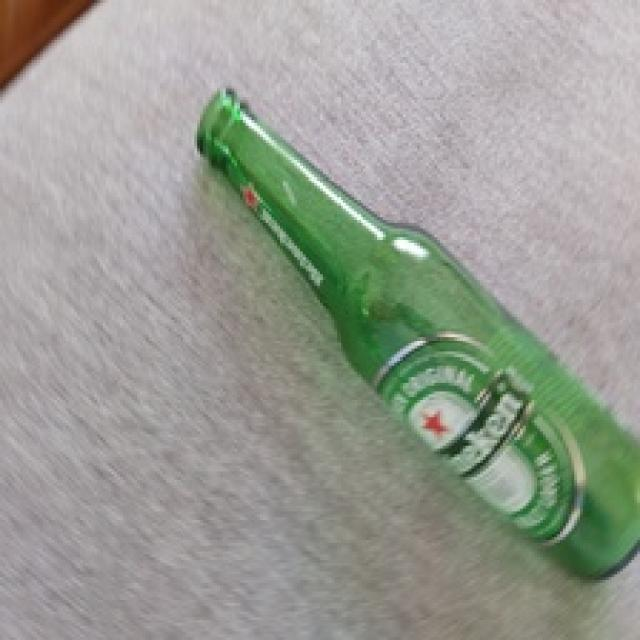garbage: (155, 45, 640, 578)
